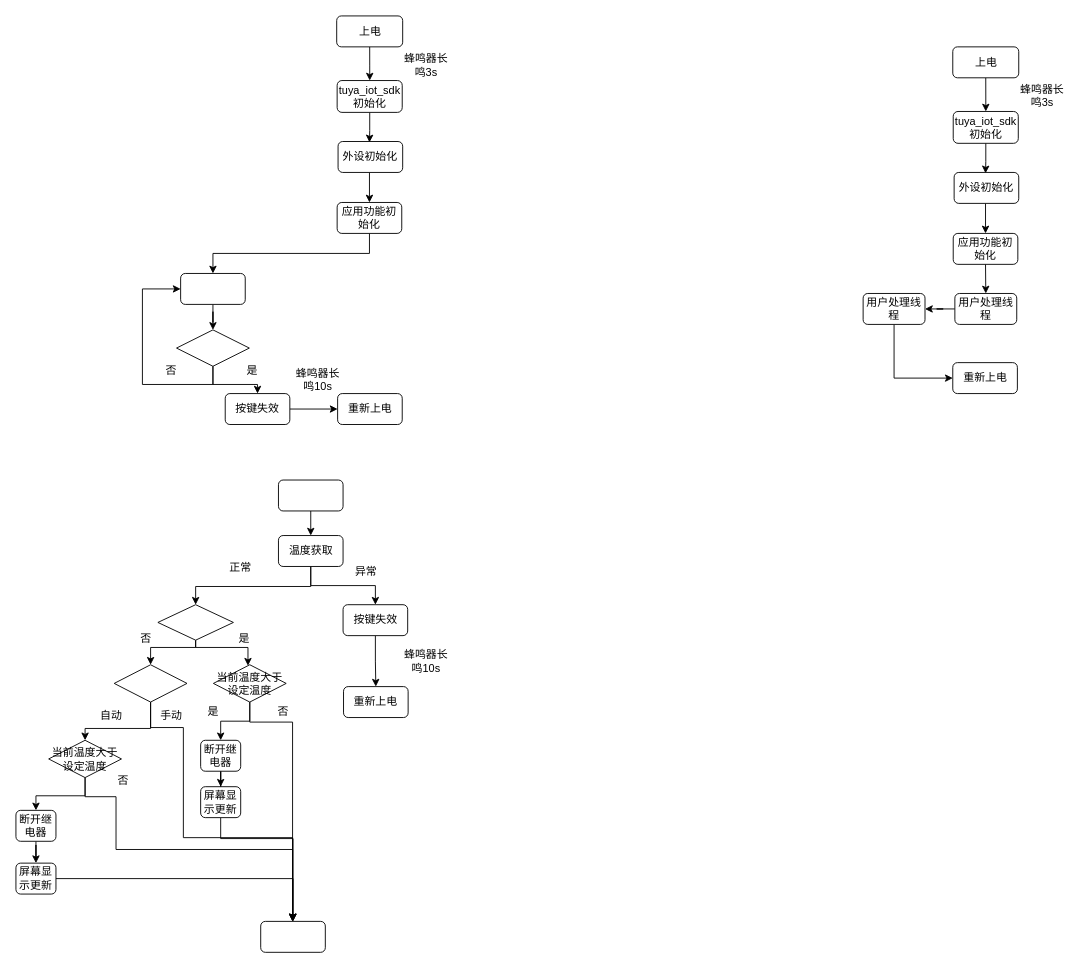
Some shapes in this 1086 by 968 pixel diagram are drawn without their labels. The centre of each missing label's shape, as x and y in pixels:
"处理线程" belongs at pixel 212 288.
"手动/自动" belongs at pixel 150 683.
"是否有周定时" belongs at pixel 195 622.
"温度异常" belongs at pixel 212 347.
"线程开始" belongs at pixel 310 495.
"线程重新开始" belongs at pixel 292 936.
